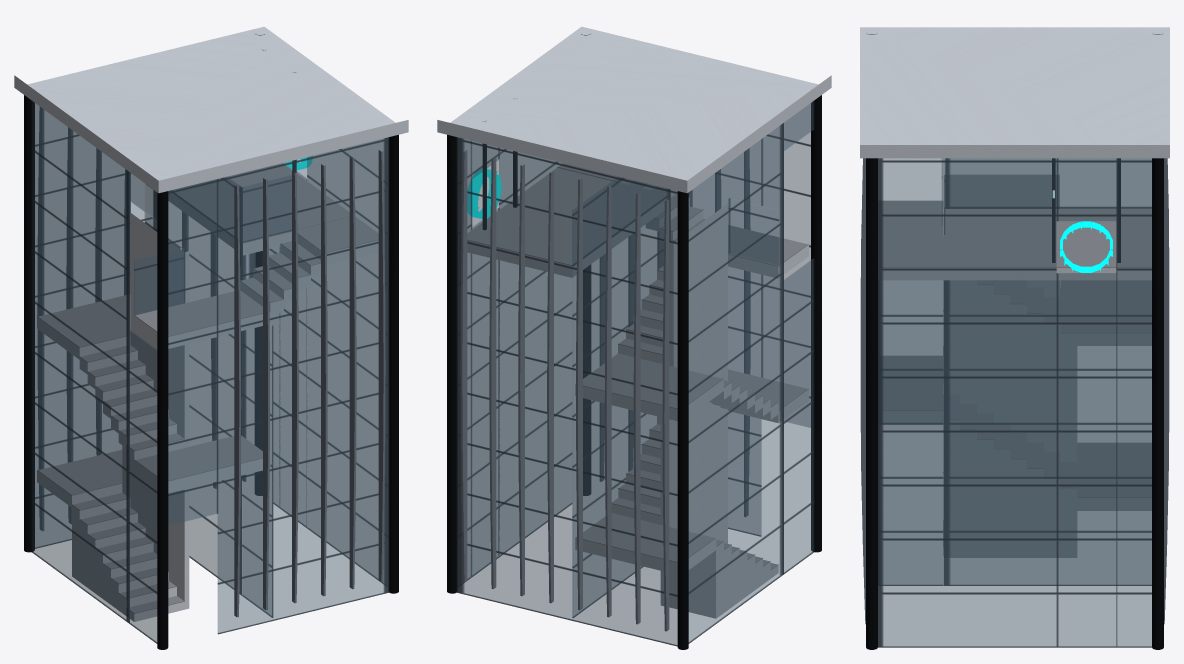
3 renders of one model, left to right at view 1: azimuth 30°, elevation 25°; view 2: azimuth 150°, elevation 25°; view 3: azimuth 270°, elevation 25°, orthographic. The views are drawn at different scales.
Visible parts, largest first — view 1: Enclosure_Glass, Roof, Branch_Fins, Treads_Slate, Columns, Stair_Cast, Spine_Wall, Deck_Finish, Deck; view 2: Enclosure_Glass, Roof, Branch_Fins, Columns, Spine_Wall, Stair_Cast, Treads_Slate, Deck_Finish, Deck, Slide_Tube, Gate_Posts; view 3: Enclosure_Glass, Roof, Spine_Wall, Treads_Slate, Deck_Finish, Columns, Stair_Cast, Branch_Fins, Deck, Slide_Tube, Gate_Posts.
Part boxes in pixels (bbox=[...]): Enclosure_Glass: bbox=[31, 101, 389, 643]; Roof: bbox=[14, 26, 408, 193]; Branch_Fins: bbox=[37, 107, 385, 617]; Treads_Slate: bbox=[37, 241, 320, 613]; Columns: bbox=[24, 34, 398, 649]; Stair_Cast: bbox=[37, 244, 320, 621]; Spine_Wall: bbox=[122, 213, 189, 609]; Deck_Finish: bbox=[172, 163, 378, 252]; Deck: bbox=[168, 191, 378, 264]; Enclosure_Glass: bbox=[456, 101, 814, 646]; Roof: bbox=[437, 26, 831, 193]; Branch_Fins: bbox=[460, 148, 750, 631]; Columns: bbox=[447, 34, 821, 649]; Spine_Wall: bbox=[660, 204, 727, 605]; Stair_Cast: bbox=[575, 184, 808, 618]; Treads_Slate: bbox=[576, 181, 808, 569]; Deck_Finish: bbox=[467, 163, 666, 265]; Deck: bbox=[467, 167, 666, 277]; Slide_Tube: bbox=[467, 168, 501, 218]; Gate_Posts: bbox=[482, 98, 517, 229]; Enclosure_Glass: bbox=[878, 158, 1151, 647]; Roof: bbox=[860, 27, 1169, 158]; Spine_Wall: bbox=[944, 175, 1076, 557]; Treads_Slate: bbox=[882, 200, 1151, 546]; Deck_Finish: bbox=[882, 209, 1151, 267]; Columns: bbox=[866, 34, 1163, 649]; Stair_Cast: bbox=[883, 217, 1151, 554]; Branch_Fins: bbox=[860, 158, 1169, 624]; Deck: bbox=[882, 267, 1151, 280]; Slide_Tube: bbox=[1060, 221, 1112, 272]; Gate_Posts: bbox=[1052, 158, 1120, 262].
Size of what is drawn, in the model's own units: 5.2 by 9.4 by 5.2.
8 materials, 5 textured.
